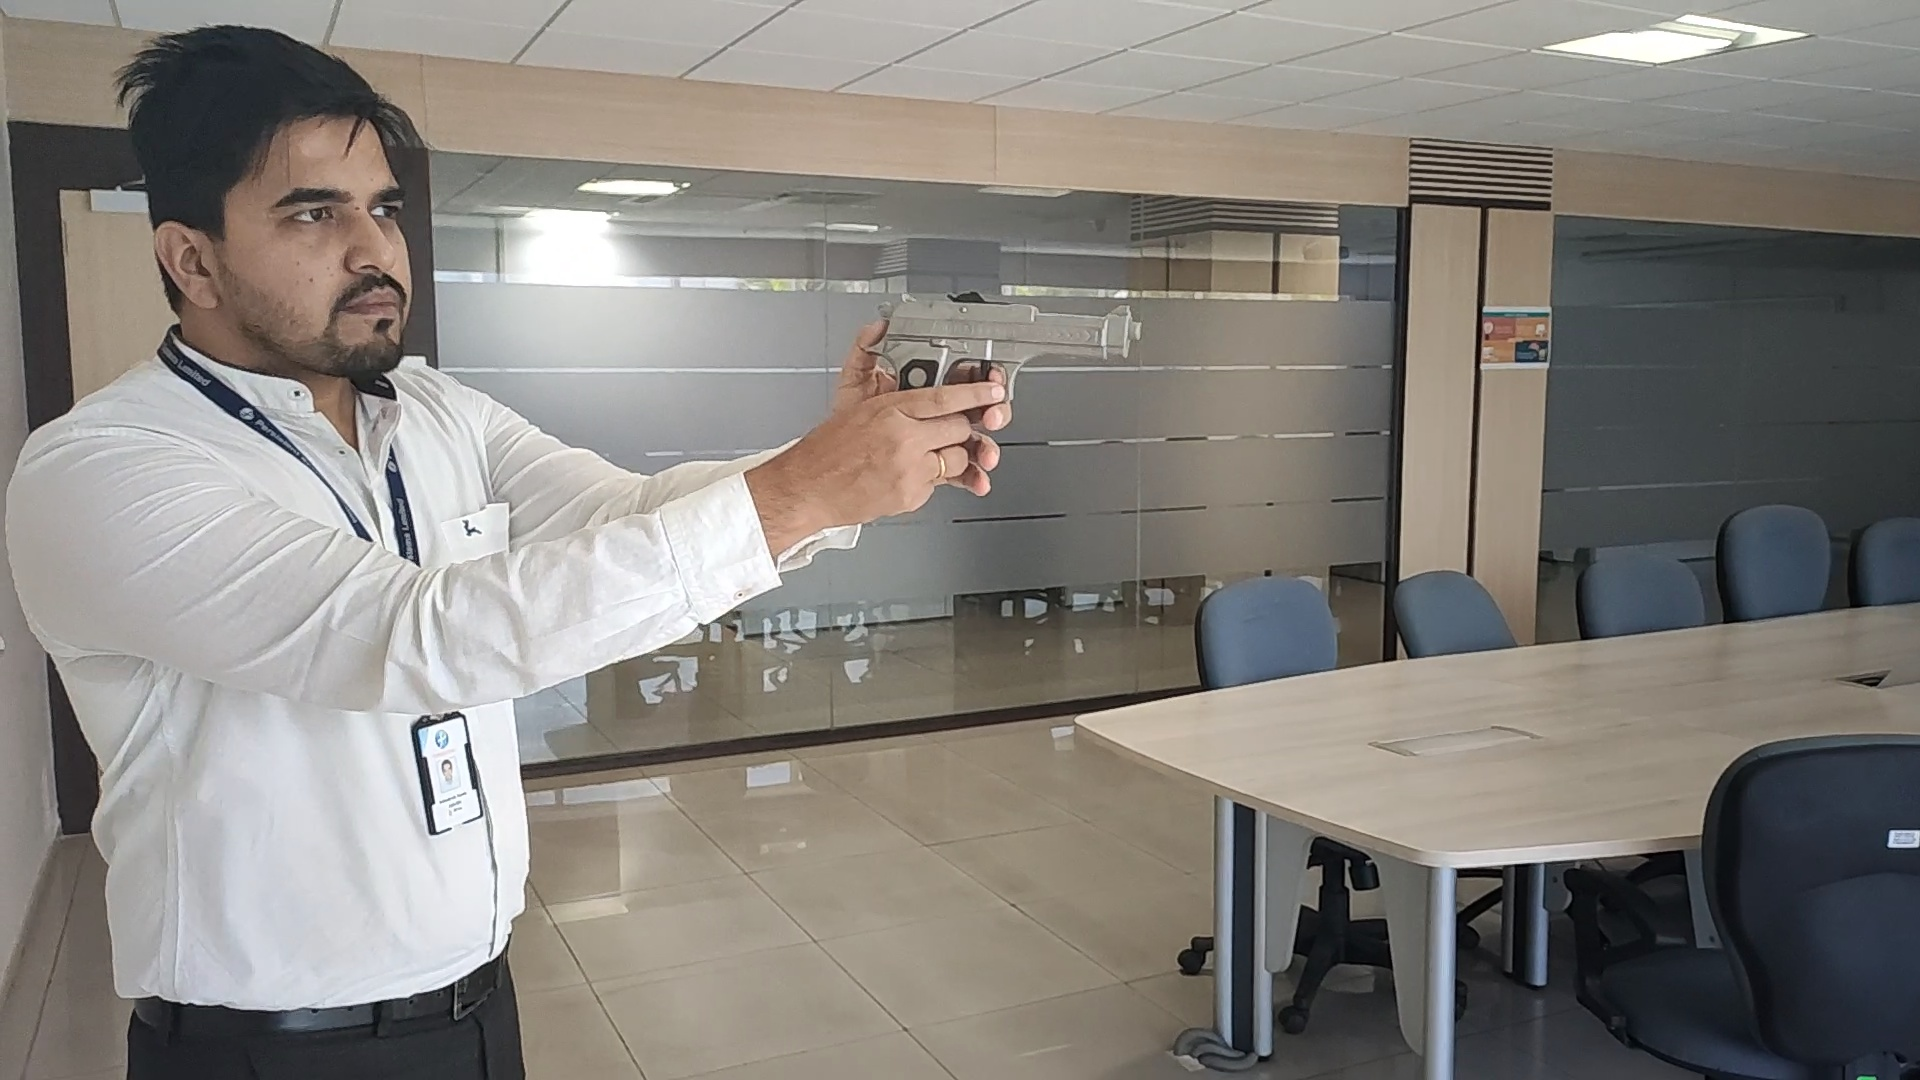gun: (862, 287, 1143, 386)
